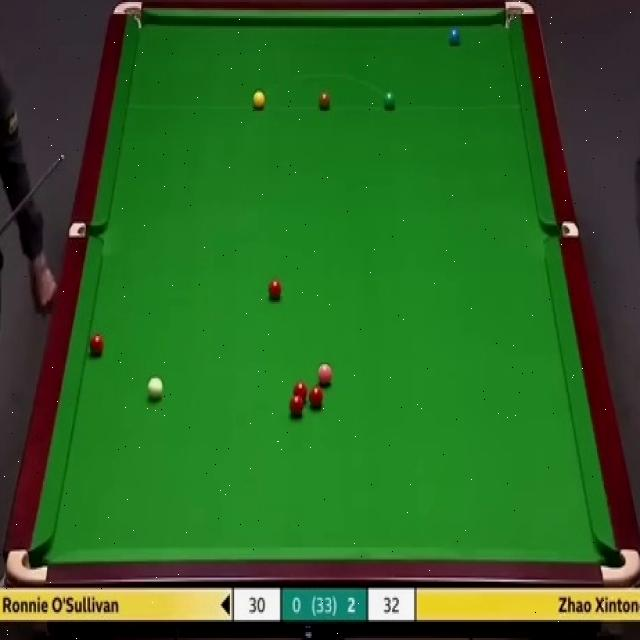blue-ball: (447, 22, 462, 47)
brown-ball: (318, 91, 331, 112)
green-ball: (382, 91, 397, 112)
pink-ball: (314, 363, 333, 387)
red-ball: (267, 278, 284, 302), (288, 395, 304, 419), (88, 333, 103, 358), (308, 385, 324, 408), (292, 381, 308, 402)
white-ball: (146, 375, 164, 404)
yellow-ball: (252, 90, 266, 111)
